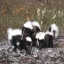skunk: (7, 28, 32, 54), (36, 24, 59, 48), (22, 22, 40, 47)
